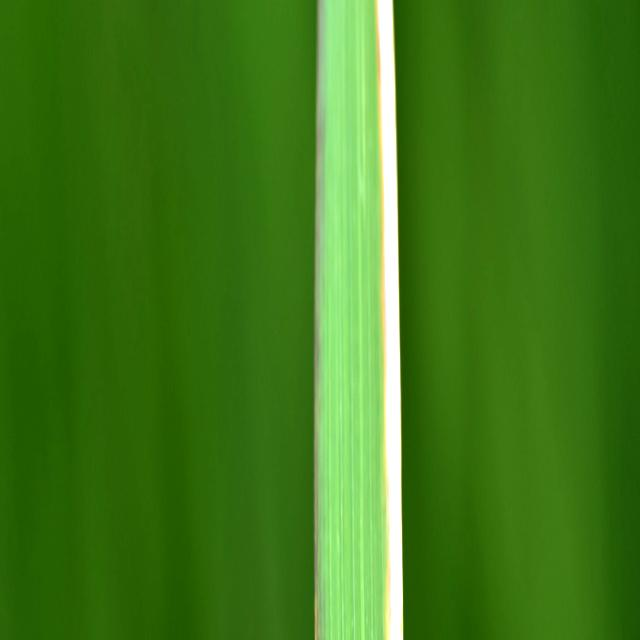BLB: (376, 0, 403, 640)
